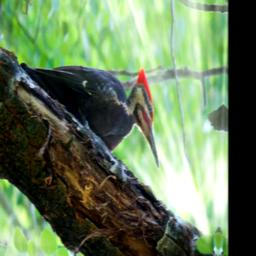Woodpecker: (15, 50, 163, 171)
